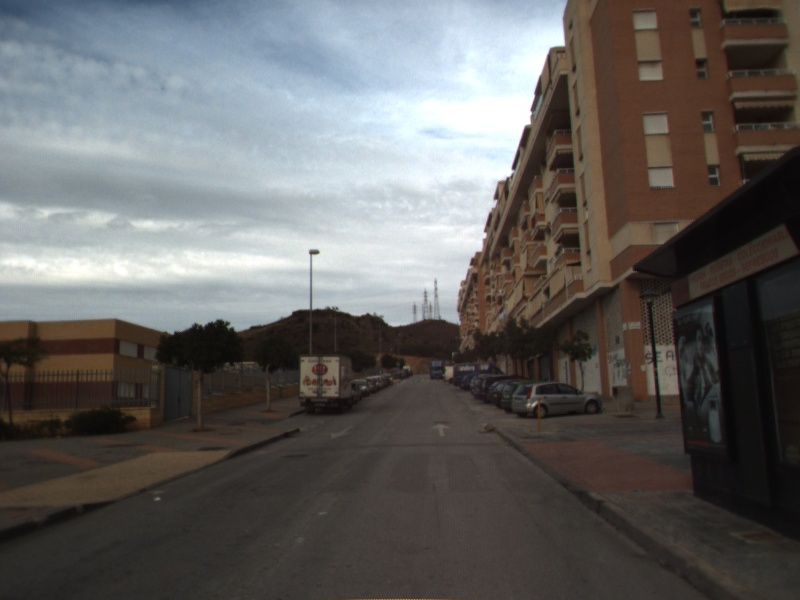STRAIGHT: (430, 421, 452, 438)
